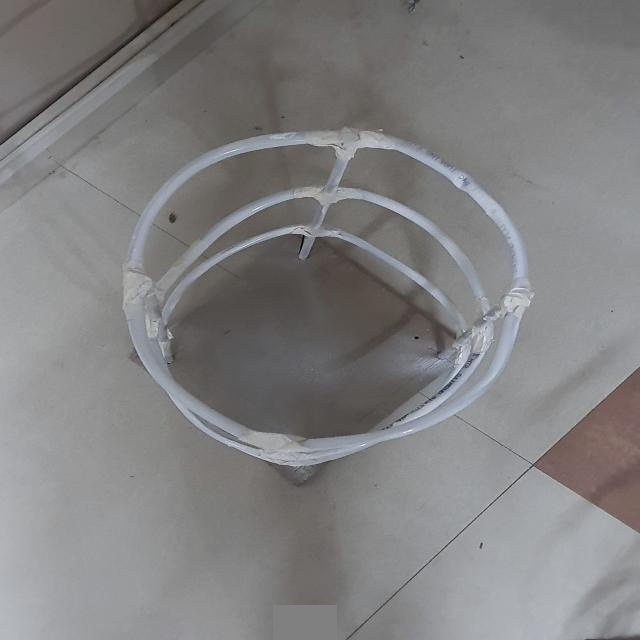silo: (120, 129, 538, 467)
